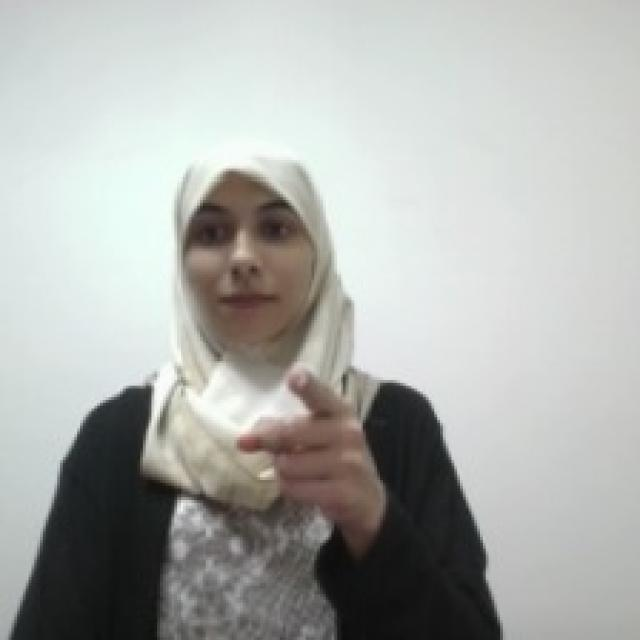you: (233, 364, 380, 522)
